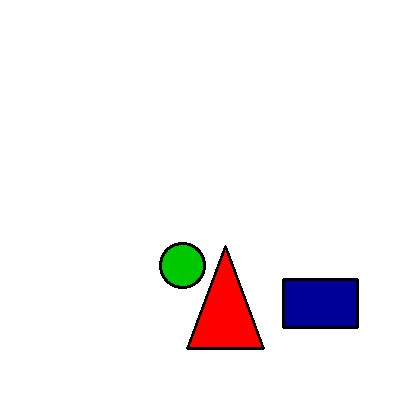circle: (160, 212, 205, 319)
rectangle: (283, 279, 357, 327)
triangle: (187, 246, 263, 348)
